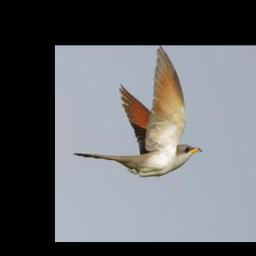Cuckoo: (73, 45, 202, 175)
